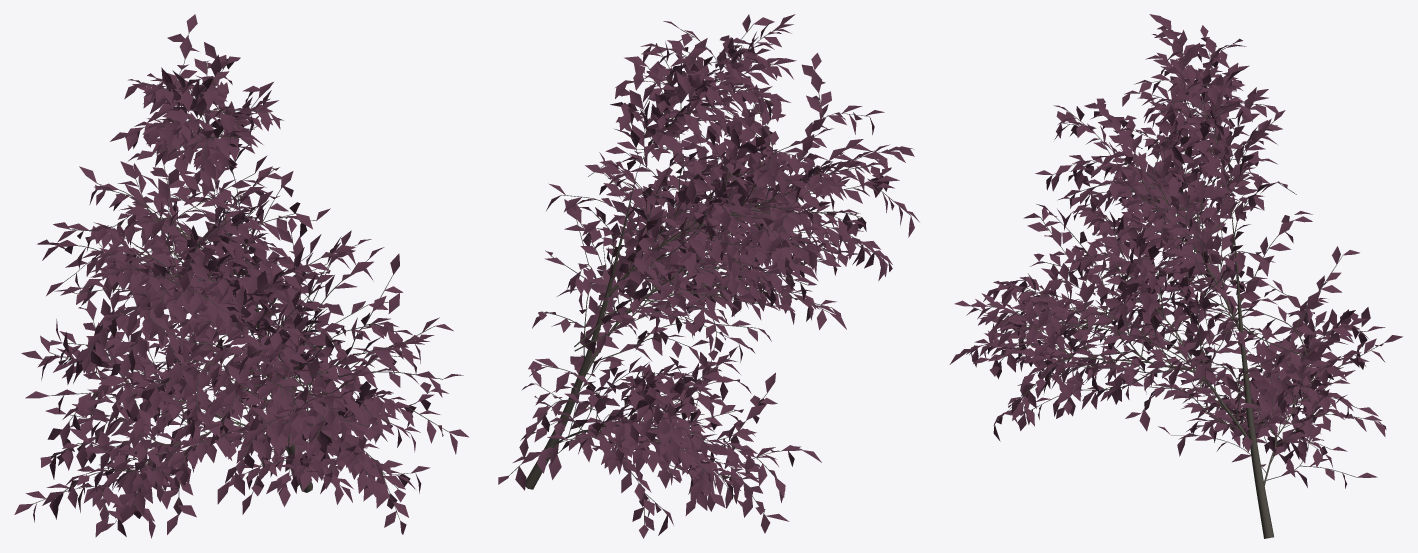
The model's file is Tree 6.glb.
3 renders of one model, left to right at view 1: azimuth 30°, elevation 25°; view 2: azimuth 150°, elevation 25°; view 3: azimuth 270°, elevation 25°, orthographic. The views are drawn at different scales.
Parts seen in each view (by area): view 1: Tree_Prunus-cerasifera_A_summer.004; view 2: Tree_Prunus-cerasifera_A_summer.004; view 3: Tree_Prunus-cerasifera_A_summer.004.
Boxes of the visible parts, box(x1,y1,x2,y2) form: Tree_Prunus-cerasifera_A_summer.004: box(14, 14, 468, 538); Tree_Prunus-cerasifera_A_summer.004: box(498, 14, 919, 538); Tree_Prunus-cerasifera_A_summer.004: box(949, 14, 1402, 538).
Bounding box in the file's own units: 3.02 × 4.17 × 3.84.
